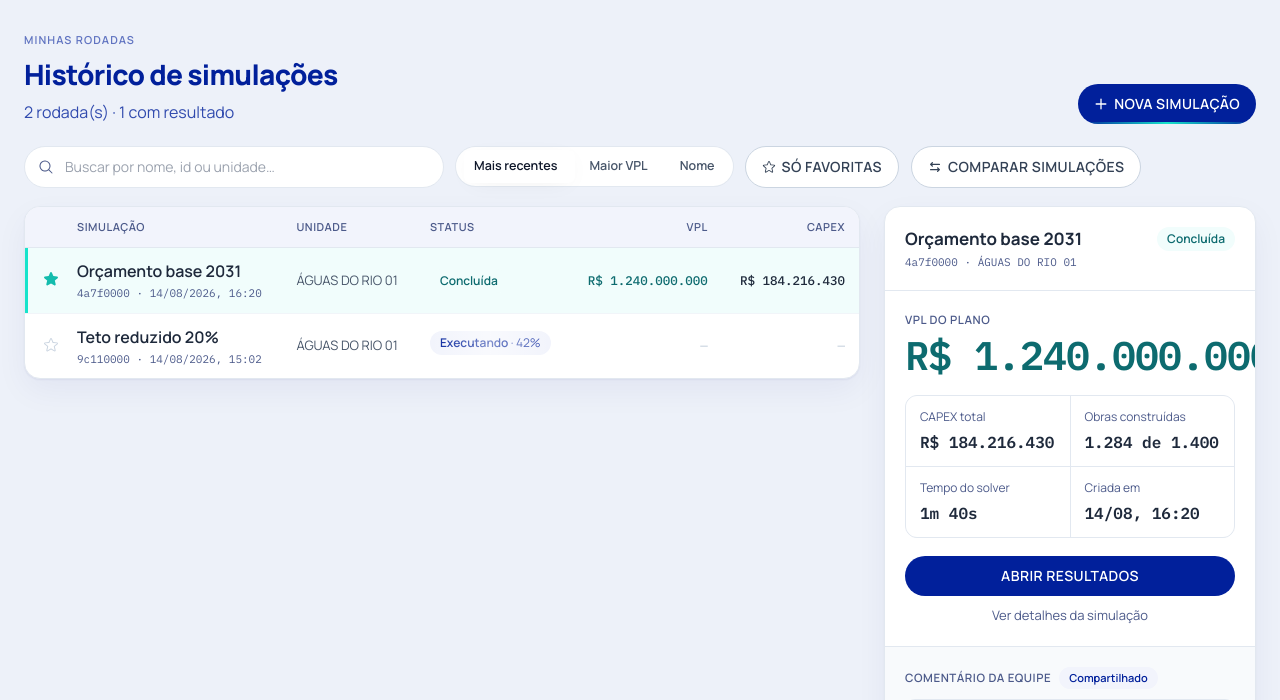
Test: Histórico — ver detalhes da simulação › rodada SEM pedido gravado diz isso — em vez de uma lista vazia
Expected: the table named "rodadas de simulação" is shown, [25,206,859,378]
Click the button "Ver detalhes da simulação": (1070, 615) [905,606,1235,625]
(page scrolled)
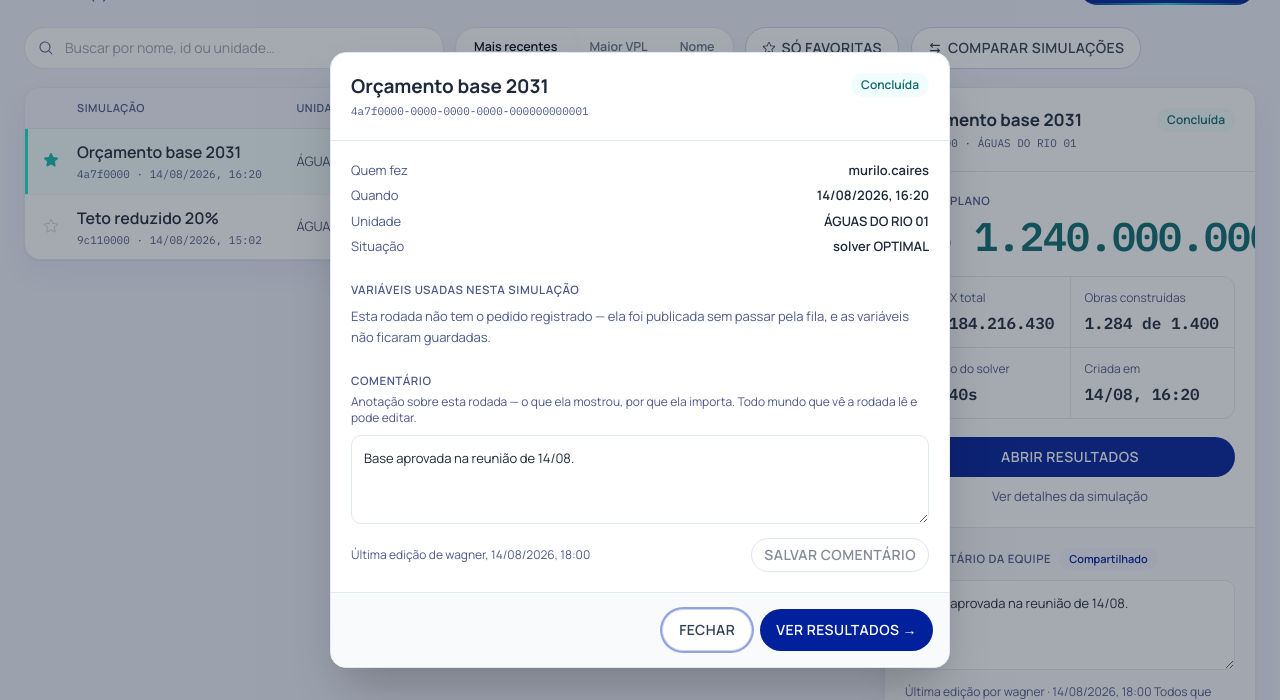
Now the dialog shows "não tem o pedido registrado", box [351,307,909,346]
